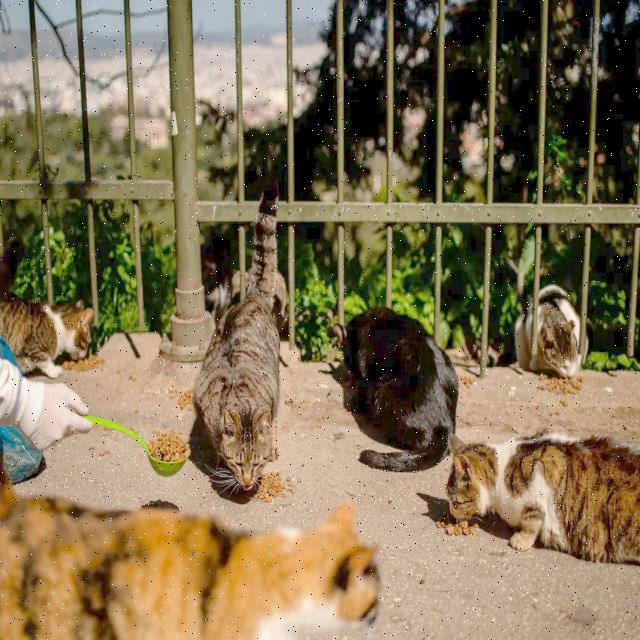cat: (0, 464, 379, 638), (194, 193, 280, 490), (446, 430, 640, 561), (334, 307, 459, 471), (0, 302, 94, 378), (515, 285, 582, 378)
